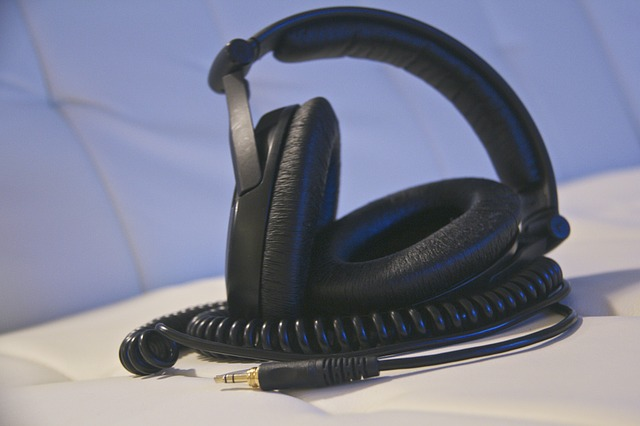headphones: (208, 7, 571, 322)
